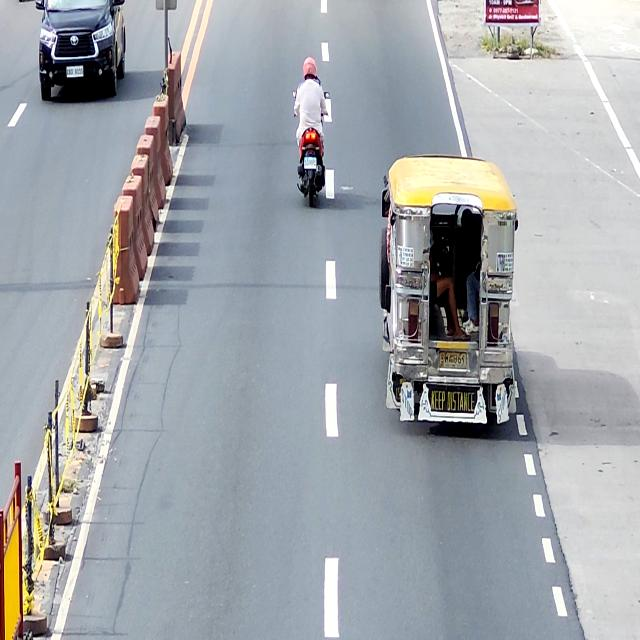Car: (35, 0, 126, 101)
Jeep: (379, 154, 519, 426)
License-Plate: (439, 347, 470, 374), (63, 62, 86, 81), (302, 153, 319, 172)
Motorcycle: (292, 89, 329, 207)
